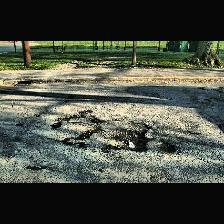pothole: (102, 120, 152, 154), (75, 127, 101, 140), (157, 140, 177, 154)
